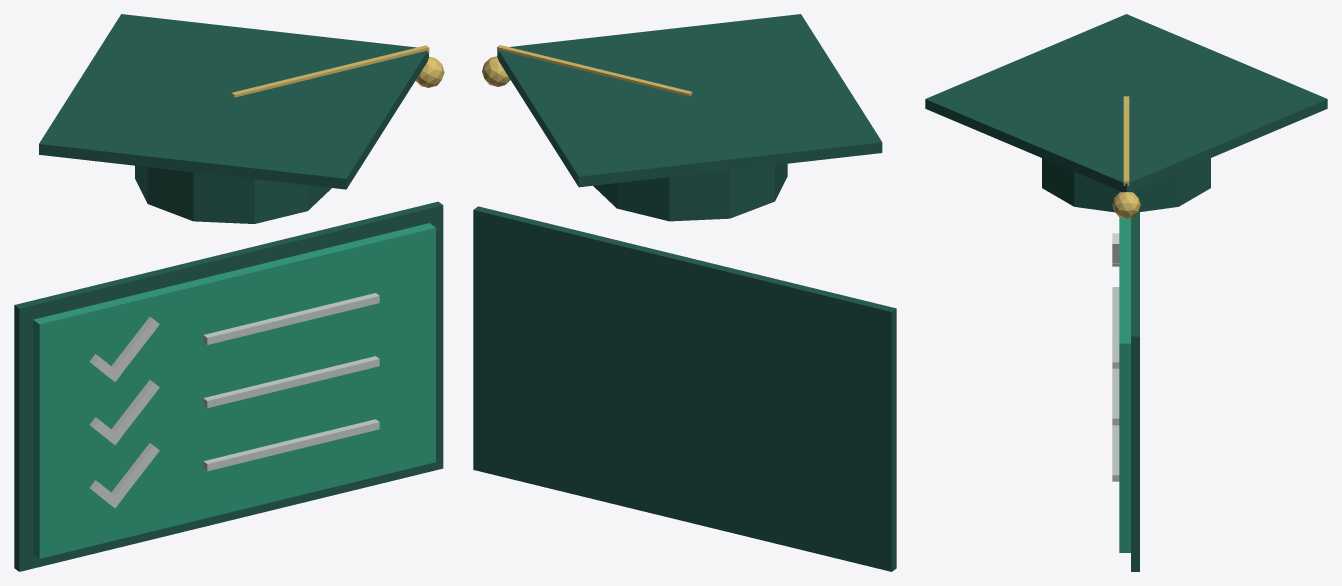
The model's file is scene-05-cap-light.glb.
The picture shows the model from 3 angles, left to right: view 1: azimuth 30°, elevation 25°; view 2: azimuth 150°, elevation 25°; view 3: azimuth 270°, elevation 25°; orthographic projection. The views are drawn at different scales.
Parts seen in each view (by area): view 1: board, captop, bframe, capbase, ln2, ln0, ln1, cord, tkb0, tkb1, tkb2, tassel; view 2: bframe, captop, capbase, cord, tassel; view 3: captop, capbase, board, bframe, ln0, cord, tassel.
Part boxes in pixels (<box>): board: <box>33,223,435,558</box>; captop: <box>39,14,428,189</box>; bframe: <box>14,201,443,571</box>; capbase: <box>135,165,331,223</box>; ln2: <box>203,419,379,471</box>; ln0: <box>203,293,379,344</box>; ln1: <box>203,356,379,407</box>; cord: <box>231,45,429,97</box>; tkb0: <box>110,317,159,380</box>; tkb1: <box>110,380,159,439</box>; tkb2: <box>111,443,159,500</box>; tassel: <box>415,57,444,87</box>; bframe: <box>473,206,896,571</box>; captop: <box>497,14,882,187</box>; capbase: <box>593,163,787,221</box>; cord: <box>497,45,692,96</box>; tassel: <box>482,56,510,86</box>; captop: <box>925,14,1327,192</box>; capbase: <box>1042,158,1210,212</box>; board: <box>1119,217,1130,552</box>; bframe: <box>1131,212,1139,571</box>; ln0: <box>1112,287,1119,368</box>; cord: <box>1123,96,1129,185</box>; tassel: <box>1112,192,1140,218</box>.
Size of the model in its own units: 2.46 by 2.38 by 2.26.
